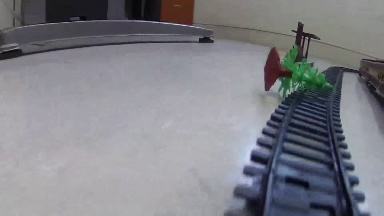tree: (260, 47, 340, 107)
